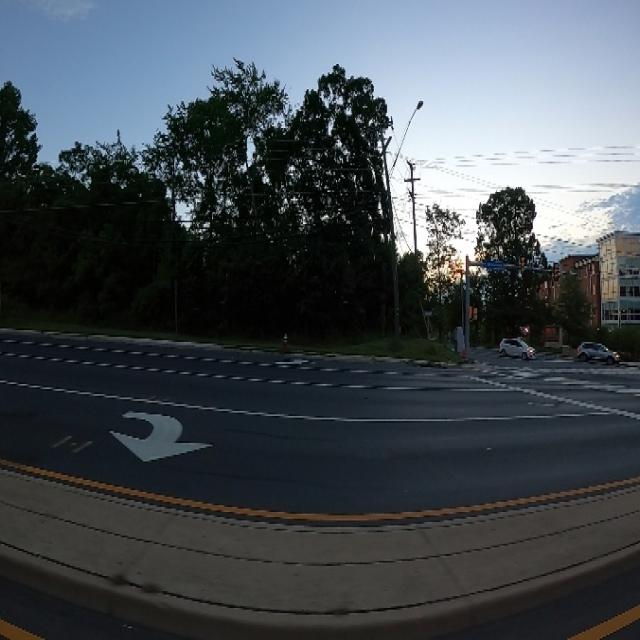cars: (576, 337, 620, 369), (498, 333, 536, 363)
